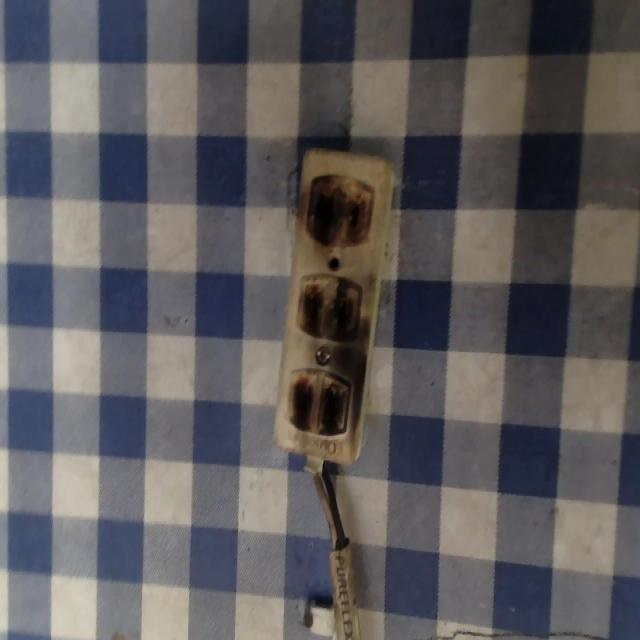-: (294, 171, 382, 253), (283, 362, 350, 446), (295, 272, 363, 341)
